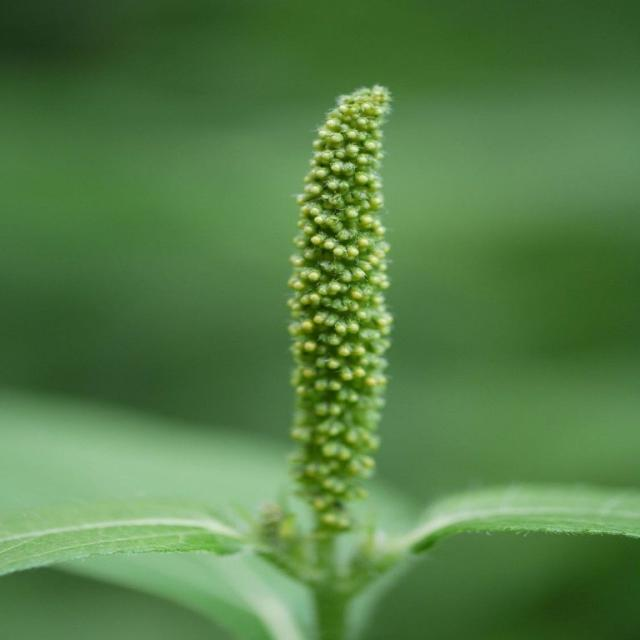ambrosia: (236, 55, 449, 596)
